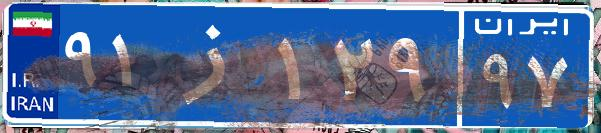1: (273, 28, 330, 110), (110, 28, 158, 105)
2: (330, 28, 385, 110)
7: (525, 38, 570, 115)
9: (385, 28, 445, 110), (57, 26, 110, 107), (475, 38, 525, 113)
ز: (158, 15, 273, 115)
